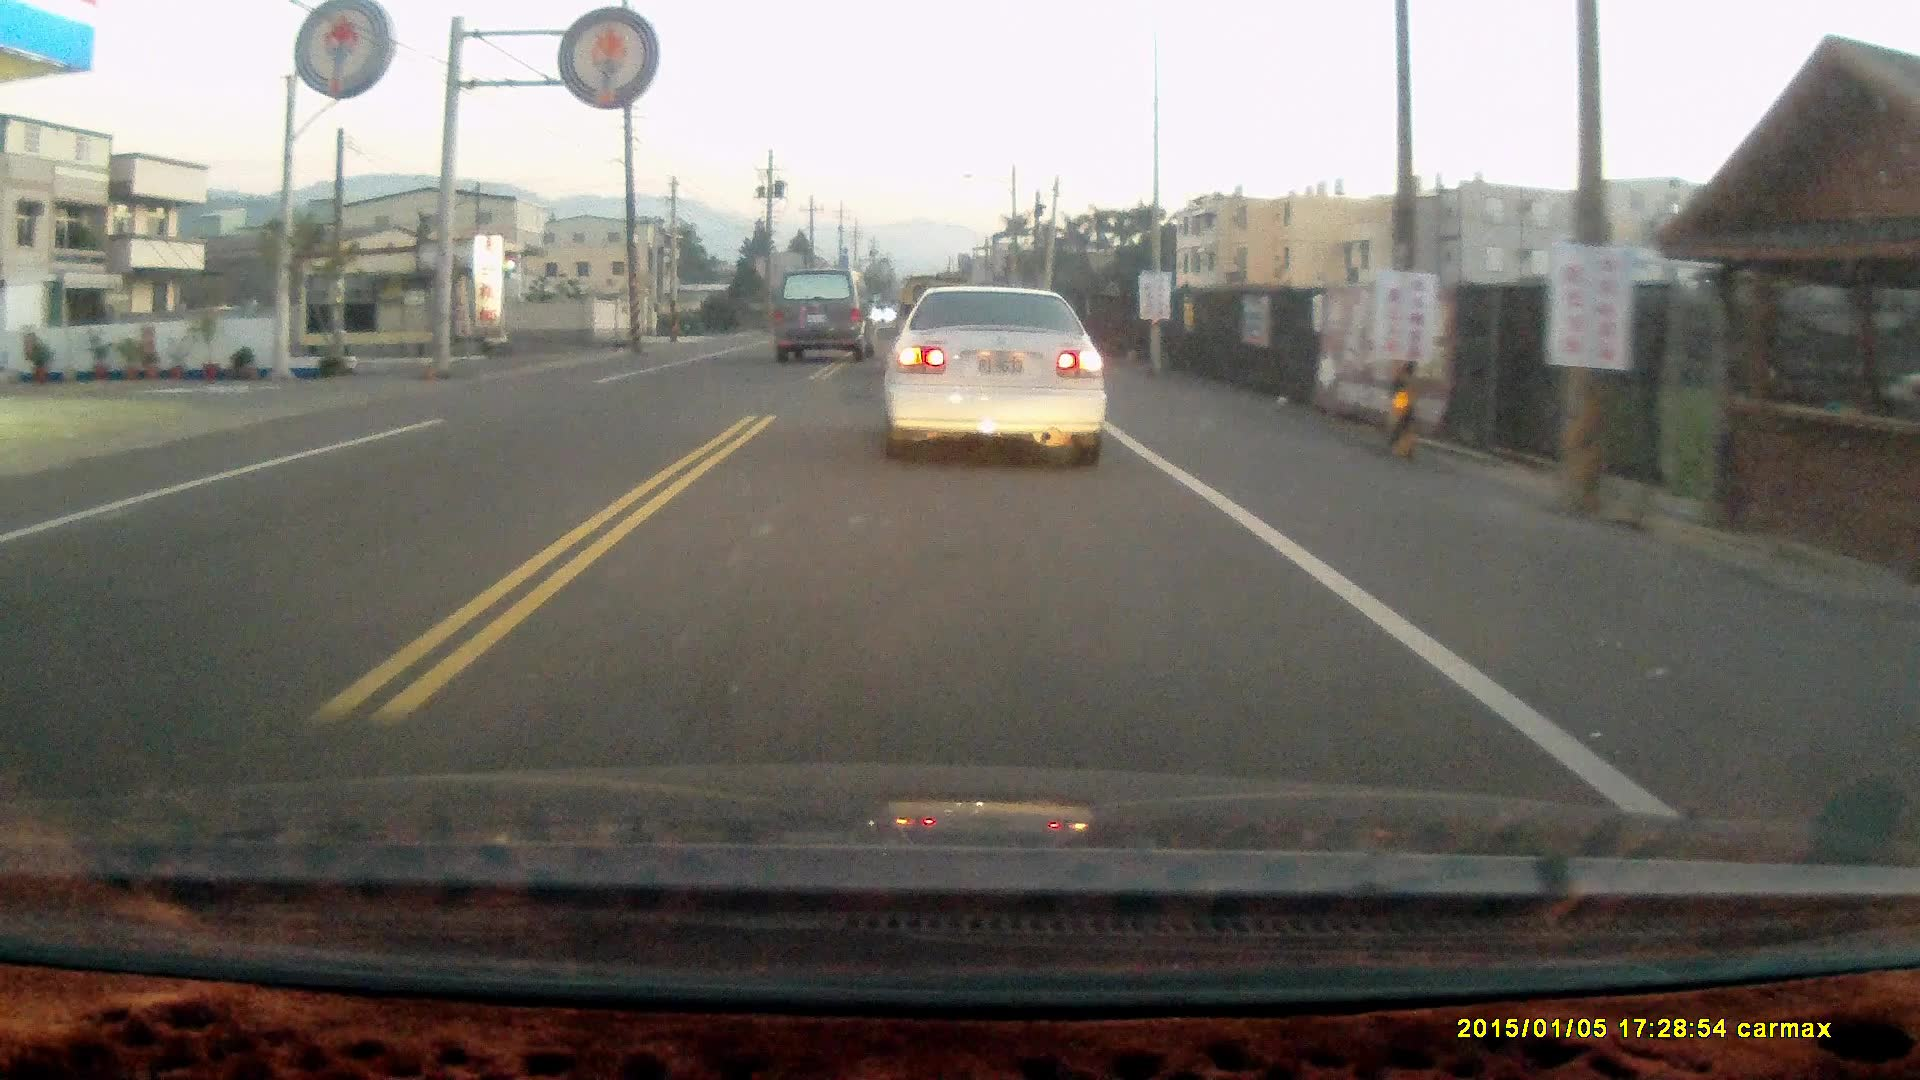vehicle: (877, 284, 1112, 473), (765, 270, 880, 372)
